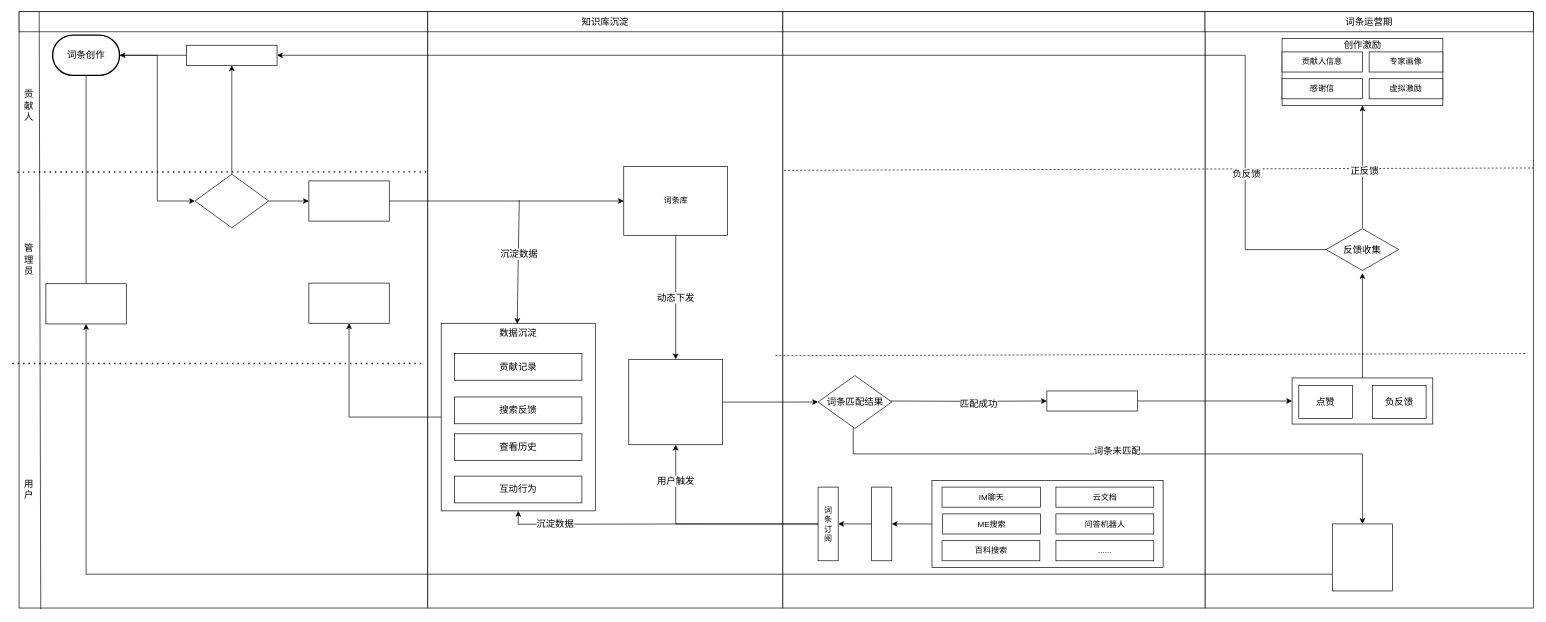
The diagram is 1546 pixels wide and 622 high, and some of its shapes have lost their labels. The centre of each missing label's shape, as x and y in pixels:
"分类管理" belongs at point (348, 200).
"创作邀请" belongs at point (1362, 557).
"开 关 设 置" belongs at point (881, 523).
"数据运营看板" belongs at point (348, 302).
"解析器" belongs at point (675, 402).
"词条修改" belongs at point (231, 55).
"词条创作期" belongs at point (223, 21).
"词条审核" belongs at point (231, 201).
"词条应用期" belongs at point (993, 21).
"词条收集" belongs at point (85, 303).
"词条详情展示" belongs at point (1091, 400).
